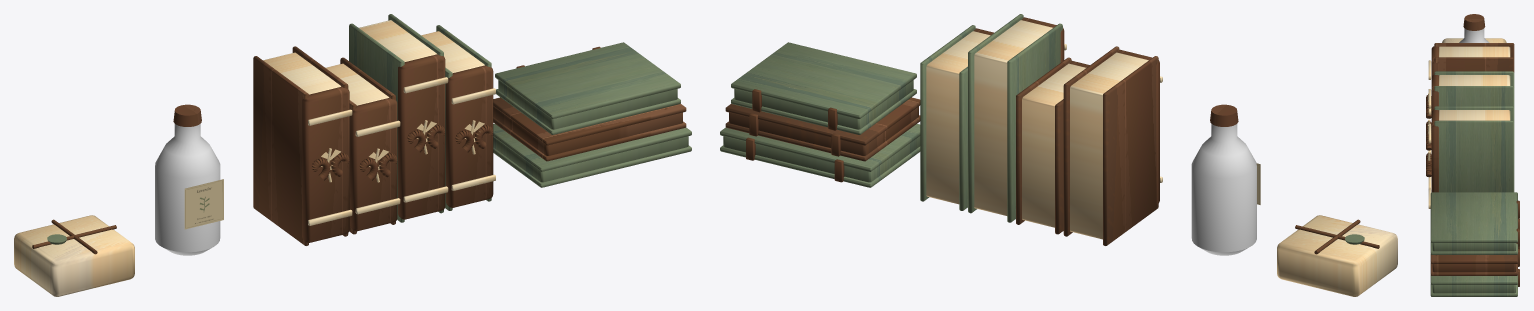
Rendered from CM_IL04_WorkingCollection3.fbx.
3 renders of one model, left to right at view 1: azimuth 30°, elevation 25°; view 2: azimuth 150°, elevation 25°; view 3: azimuth 270°, elevation 25°, orthographic. The views are drawn at different scales.
Visible parts, largest first — view 1: CM_IL04_WorkingCollection3; view 2: CM_IL04_WorkingCollection3; view 3: CM_IL04_WorkingCollection3.
Part boxes in pixels (x1,y1,x2,y2): CM_IL04_WorkingCollection3: (14,14,691,296); CM_IL04_WorkingCollection3: (720,14,1397,296); CM_IL04_WorkingCollection3: (1426,14,1519,296).
Bounding box in the file's own units: 1.45 × 0.355 × 0.247.
